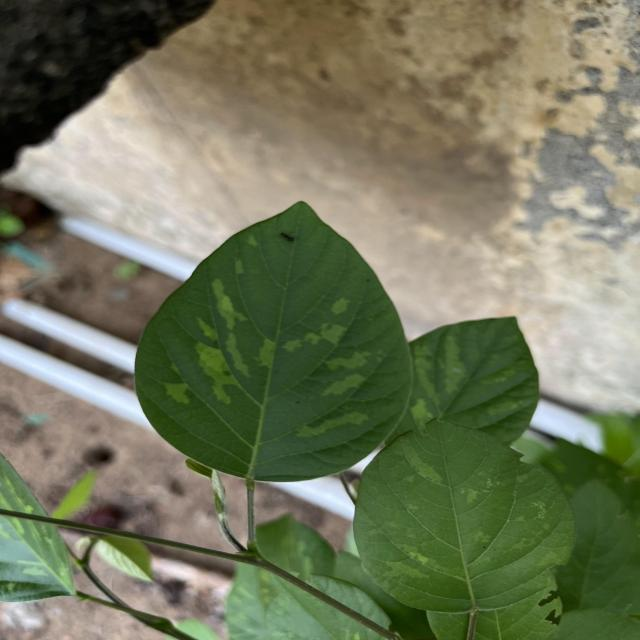Desmodium gangeticum: (130, 195, 417, 487), (347, 411, 583, 619)
